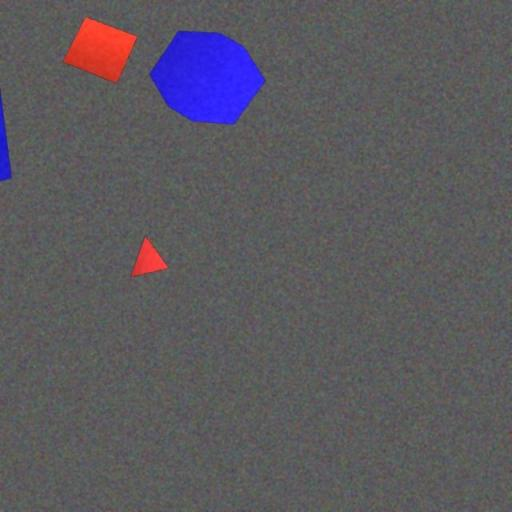RED_SQUARE: (62, 16, 138, 84)
